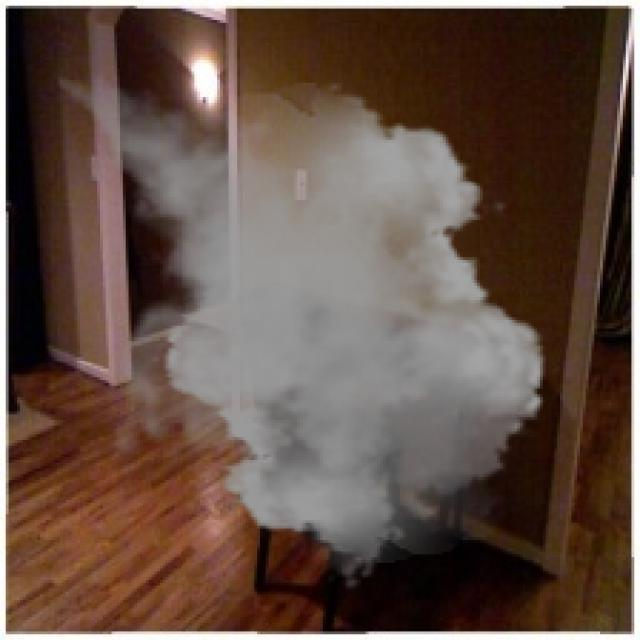Smoke: (28, 63, 560, 592)
